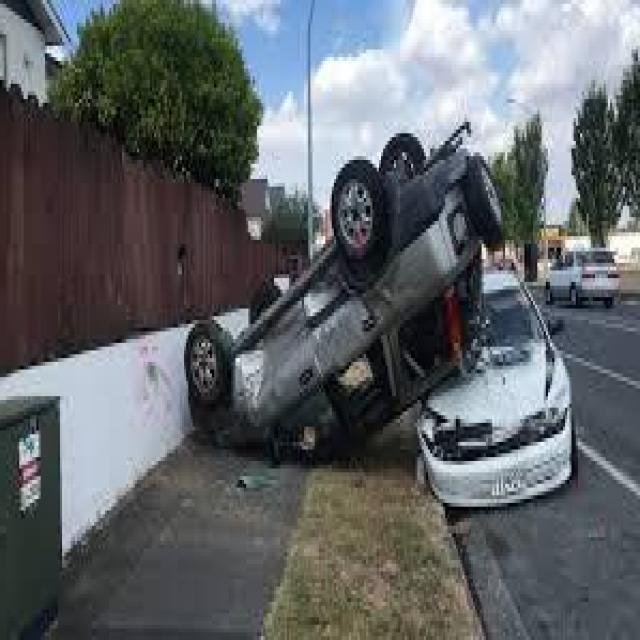multiple_accident: (177, 137, 567, 519)
